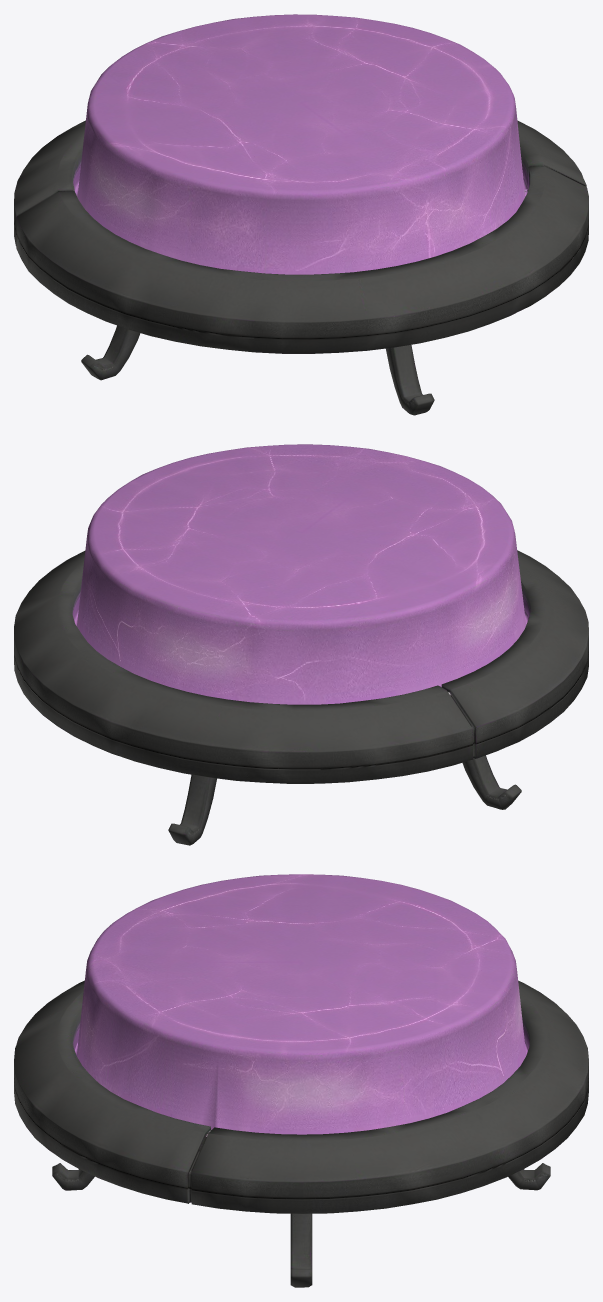
The model's file is tripo_convert_a2025417-af78-4f5b-b459-5ba9825b30bb.fbx.
The picture shows the model from 3 angles, top to bottom: view 1: azimuth 30°, elevation 25°; view 2: azimuth 150°, elevation 25°; view 3: azimuth 270°, elevation 25°; orthographic projection.
Visible parts, largest first — view 1: tripo_node_a2025417; view 2: tripo_node_a2025417; view 3: tripo_node_a2025417.
Part boxes in pixels (x1,y1,x2,y2): tripo_node_a2025417: (14,14,588,415); tripo_node_a2025417: (14,444,588,845); tripo_node_a2025417: (14,874,588,1287).
Bounding box in the file's own units: 0.998 × 0.4316 × 0.998.
1 material, 1 textured.
